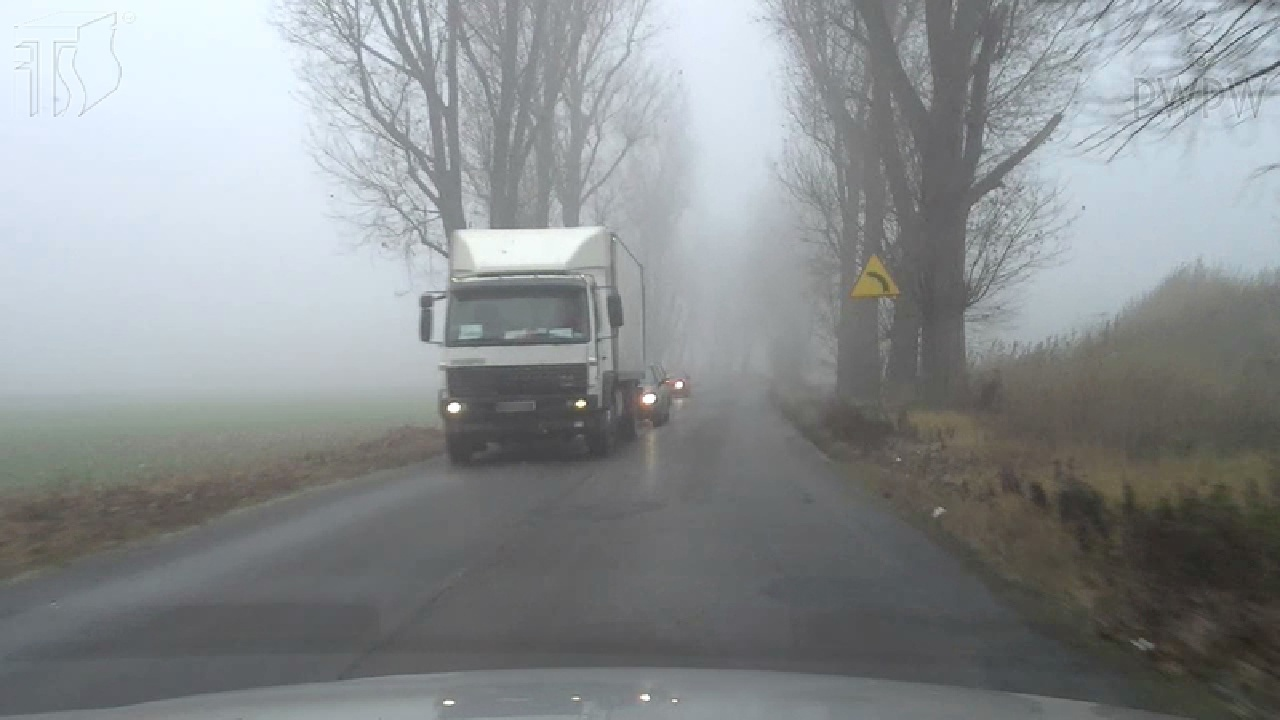A2: (851, 253, 900, 298)
